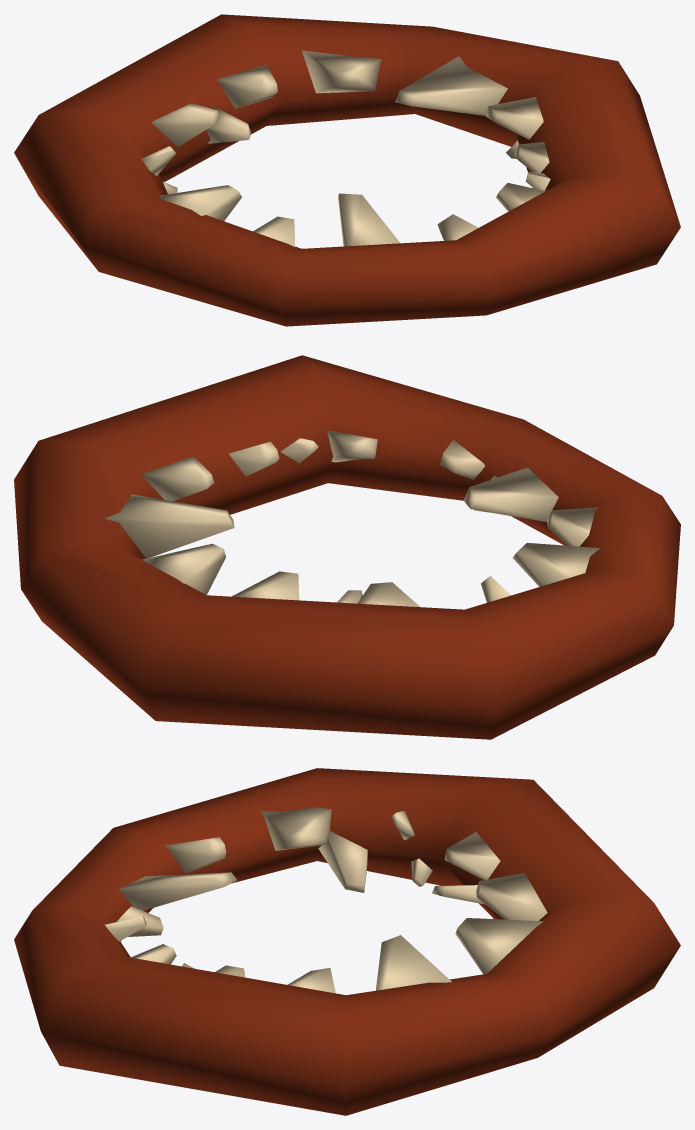
File: Verelible.fbx
3 views of the same model, one above another, from view 1: azimuth 30°, elevation 25°; view 2: azimuth 150°, elevation 25°; view 3: azimuth 270°, elevation 25° (orthographic). The views are drawn at different scales.
Visible parts, largest first — view 1: Cylinder, Cylinder.001; view 2: Cylinder, Cylinder.001; view 3: Cylinder, Cylinder.001.
Boxes of the visible parts, x1,y1,x2,y2 form: Cylinder: [14, 14, 680, 326]; Cylinder.001: [141, 50, 550, 246]; Cylinder: [14, 355, 680, 739]; Cylinder.001: [104, 431, 599, 606]; Cylinder: [14, 768, 680, 1115]; Cylinder.001: [105, 807, 547, 993].
Size of the model in its own units: 195 by 30.79 by 187.
